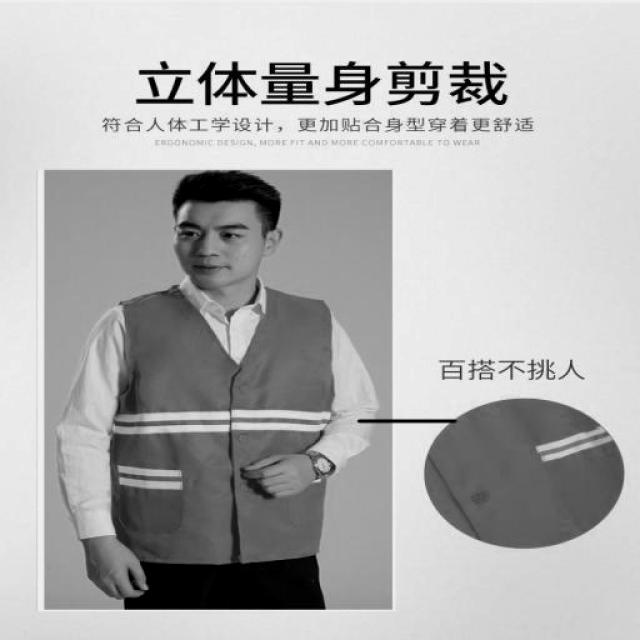face_nomask: (170, 212, 260, 282)
hand_noglove: (78, 536, 152, 604), (236, 443, 316, 503)
head_nohelmet: (165, 168, 285, 218)
person: (53, 168, 378, 607)
vest: (100, 287, 336, 565)
